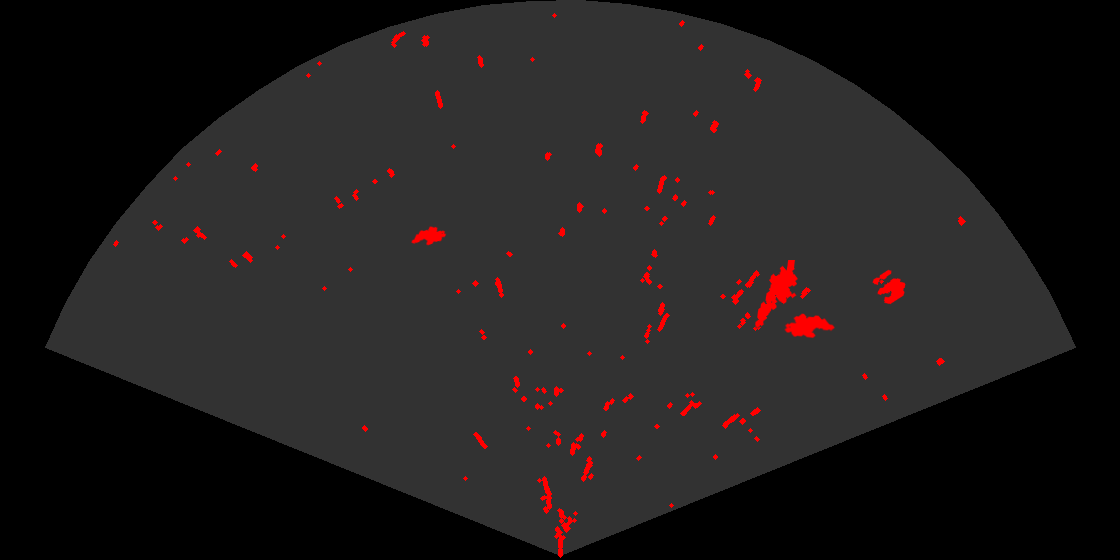AUV: (783, 312, 836, 340), (410, 225, 448, 247)
ball: (871, 268, 907, 306)
frogman: (754, 260, 799, 329)
